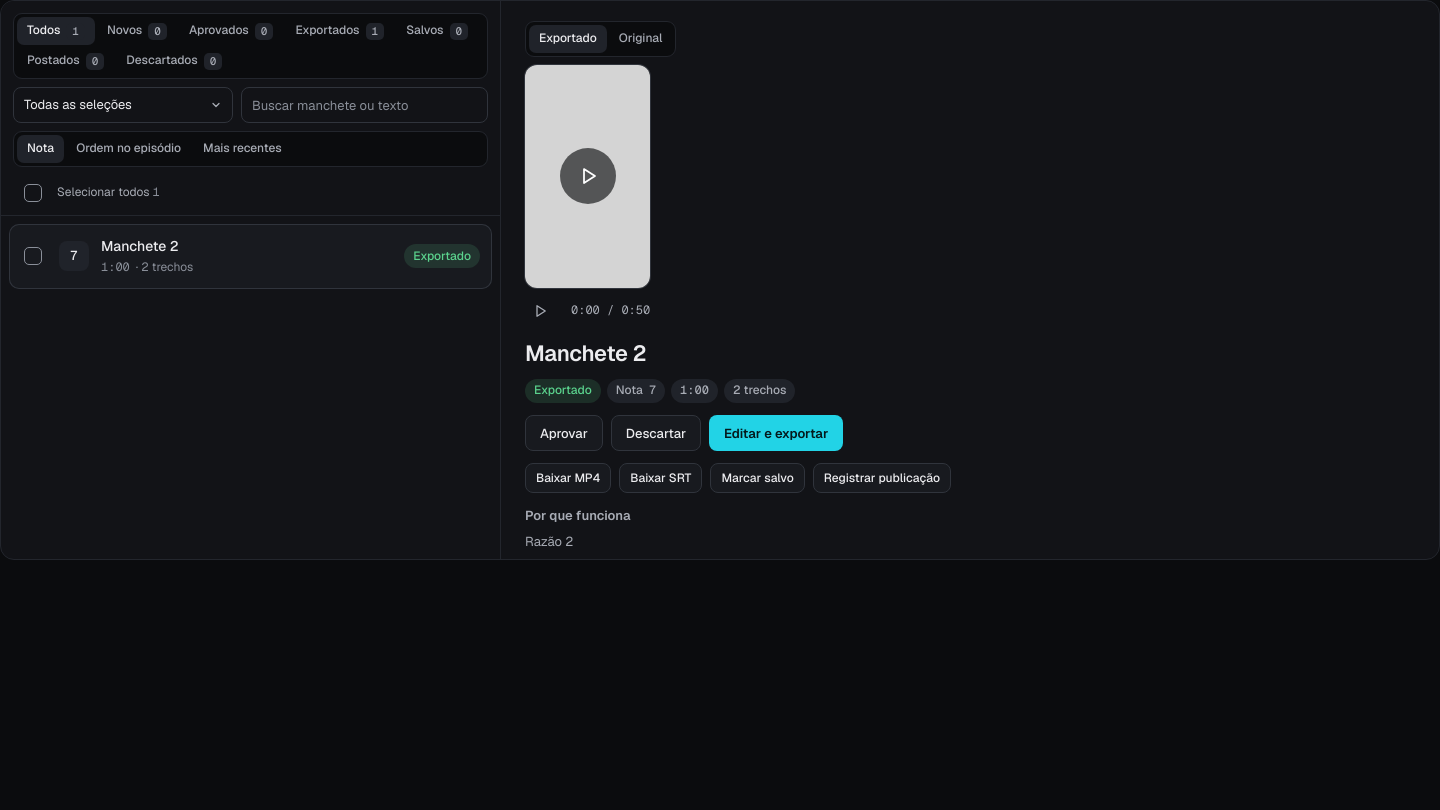
Test: saved reads Marcar salvo while off and Salvo with a check while on
The width and height of the screenshot is (1440, 810).
What coordinates should you click on to do the following:
click the button "Marcar salvo"
I would click on:
 (758, 478)
Its box is [710,463,805,493].
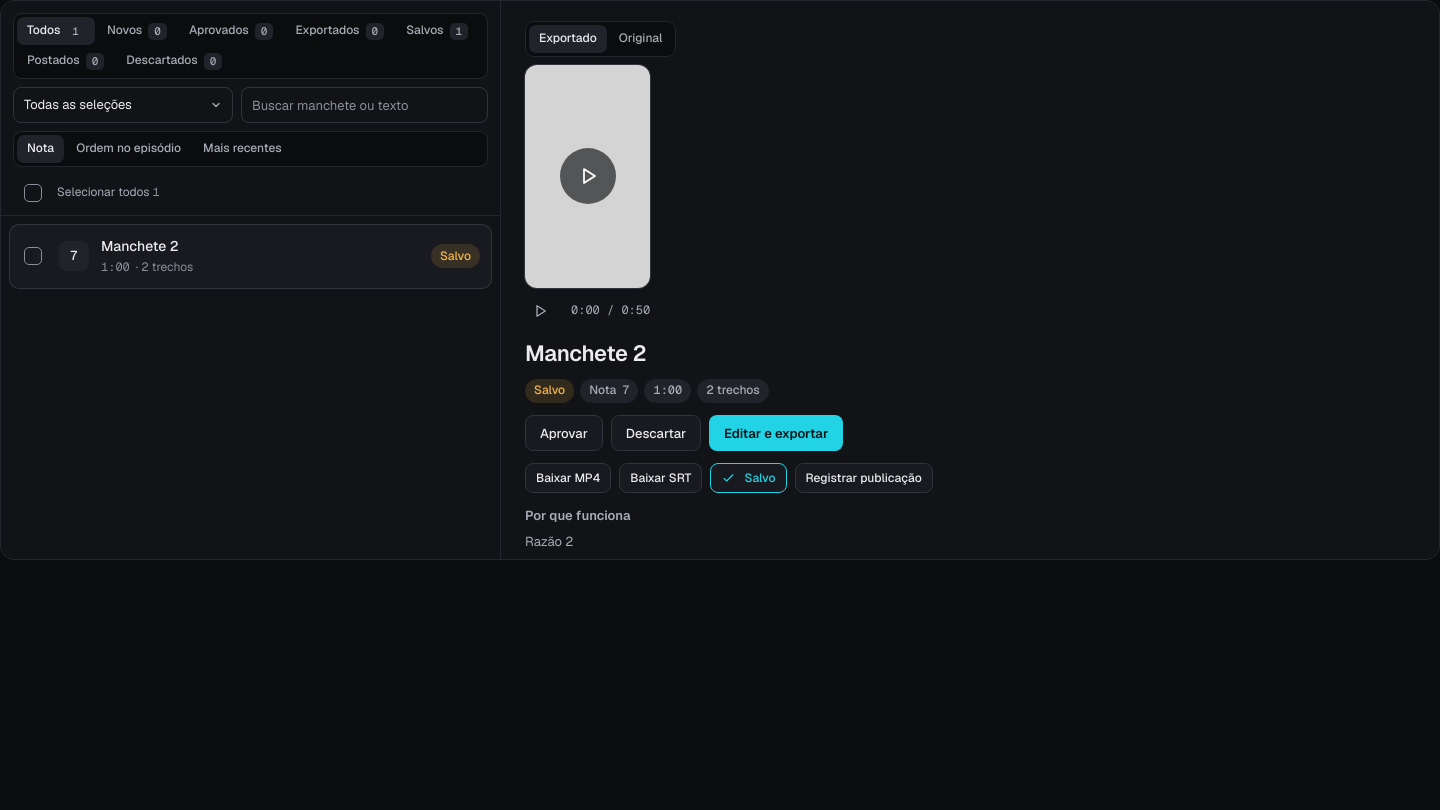
Expected: the icon next to "Baixar SRT" is shown, [722,471,736,486]
